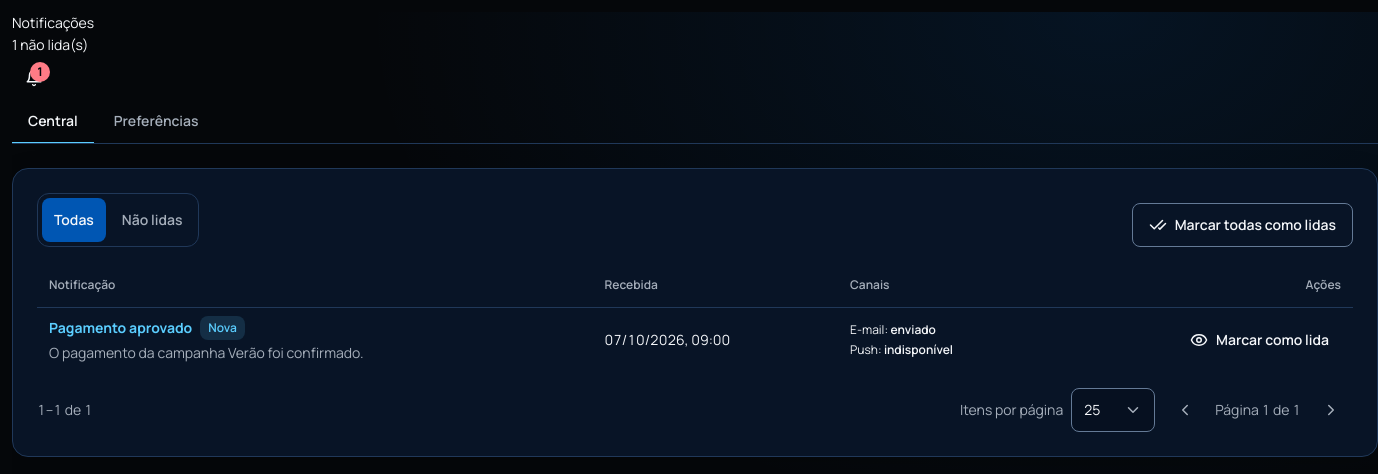
Test case: Notificações — contador real e central › o sino usa GET /notifications/unread-count e marcar como lida atualiza o contador real
The width and height of the screenshot is (1378, 474).
Expected: the link "Pagamento aprovado" is shown, [49, 316, 192, 338]
Expected: the text "indisponível" is shown, [884, 340, 953, 358]
What coordinates should you click on to do the following:
click the button with aria-label "Marcar “Pagamento aprovado” como lida"
I would click on:
 (1260, 340)
Its box is [1178, 318, 1341, 362].
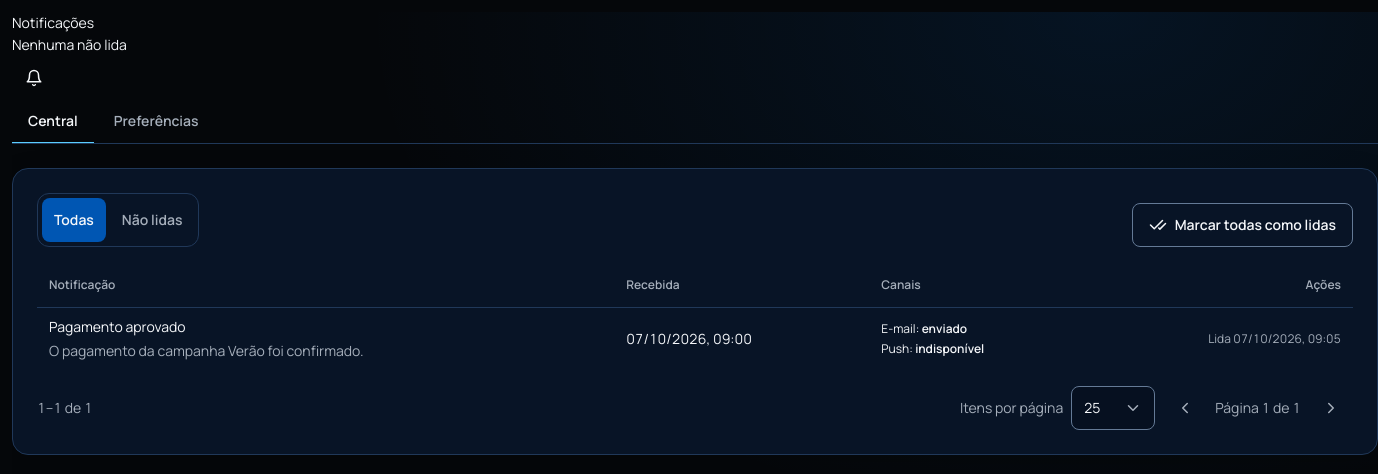
Expected: the link named "Notificações, nenhuma não lida" is shown, [25, 69, 43, 87]
